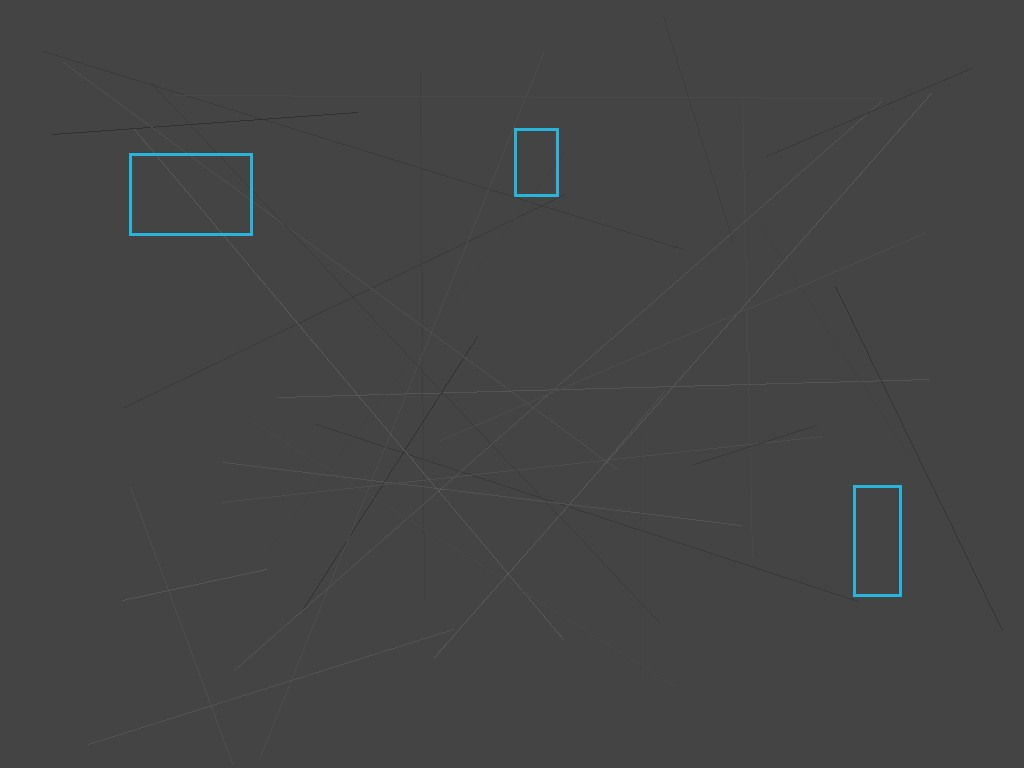D10: (129, 153, 252, 235), (514, 128, 558, 196)
D20: (853, 485, 901, 596)
